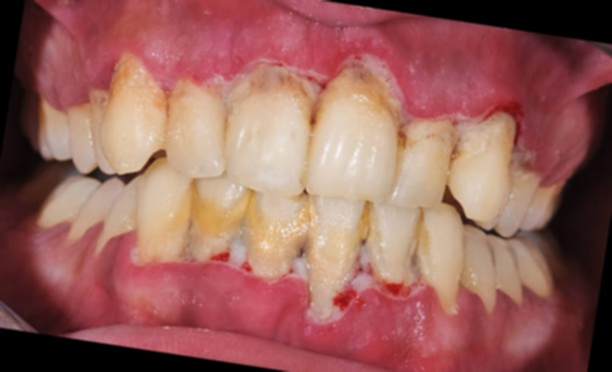Gingivitis: (406, 41, 533, 118), (73, 258, 216, 326), (137, 0, 254, 62), (329, 284, 373, 328), (380, 276, 415, 315)
